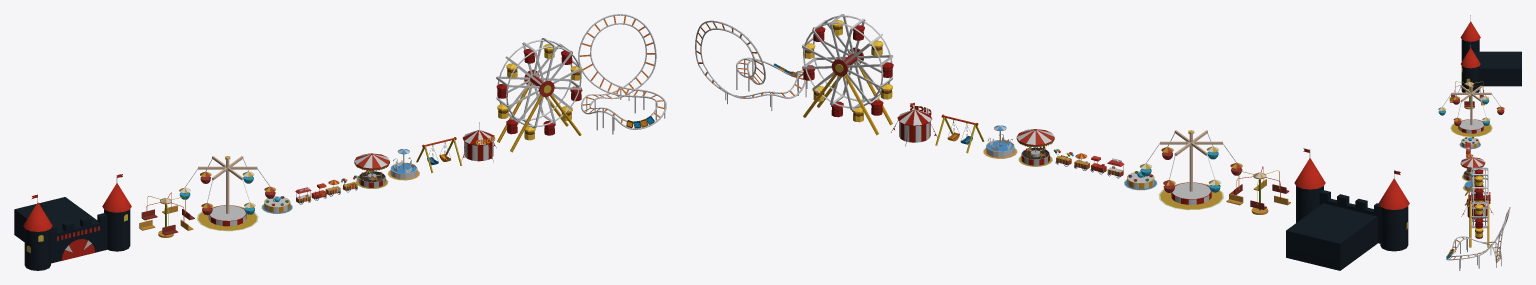
The model's file is Park_Props.FBX.
3 renders of one model, left to right at view 1: azimuth 30°, elevation 25°; view 2: azimuth 150°, elevation 25°; view 3: azimuth 270°, elevation 25°, orthographic. The views are drawn at different scales.
Parts seen in each view (by area): view 1: horron_house, Object006, roller_coaster, Object001, ferris_wheel_01, carousel_horse, ferris, Object002, Object007, cup_ferris, Object008; view 2: horron_house, Object006, roller_coaster, Object001, ferris_wheel_01, Object002, carousel_horse, ferris, Object007, Object008, cup_ferris; view 3: horron_house, Object006, Object001, roller_coaster, ferris_wheel_01, carousel_horse, ferris, Object007, cup_ferris, Object002, Object008.
Boxes of the visible parts, <box> form: horron_house: <box>14,174,131,270</box>; Object006: <box>496,38,582,140</box>; roller_coaster: <box>578,14,666,134</box>; Object001: <box>179,156,275,215</box>; ferris_wheel_01: <box>196,205,258,231</box>; carousel_horse: <box>354,153,389,188</box>; ferris: <box>497,69,581,152</box>; Object002: <box>461,122,496,162</box>; Object007: <box>139,192,194,235</box>; cup_ferris: <box>261,196,292,213</box>; Object008: <box>390,157,417,179</box>; horron_house: <box>1286,148,1409,270</box>; Object006: <box>802,14,893,122</box>; roller_coaster: <box>695,20,807,110</box>; Object001: <box>1140,130,1242,192</box>; ferris_wheel_01: <box>1158,182,1223,210</box>; Object002: <box>891,102,937,146</box>; carousel_horse: <box>1016,129,1054,166</box>; ferris: <box>803,47,892,135</box>; Object007: <box>1226,166,1290,209</box>; Object008: <box>986,134,1014,157</box>; cup_ferris: <box>1124,171,1157,190</box>; horron_house: <box>1460,15,1521,92</box>; Object006: <box>1468,167,1490,238</box>; Object001: <box>1438,85,1504,125</box>; roller_coaster: <box>1446,207,1510,270</box>; ferris_wheel_01: <box>1450,119,1492,137</box>; carousel_horse: <box>1460,157,1485,181</box>; ferris: <box>1468,192,1490,247</box>; Object007: <box>1449,78,1484,106</box>; cup_ferris: <box>1459,136,1480,149</box>; Object002: <box>1461,199,1493,219</box>; Object008: <box>1464,176,1483,191</box>.
Size of the model in its own units: 72.24 by 10.12 by 11.72.
